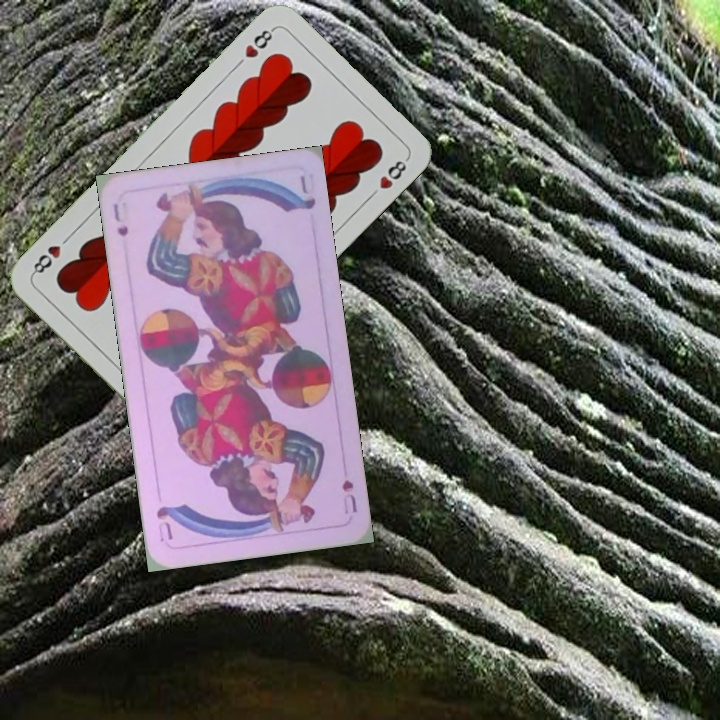H8: (240, 23, 277, 61)
SU: (338, 476, 360, 516), (109, 200, 131, 239)
